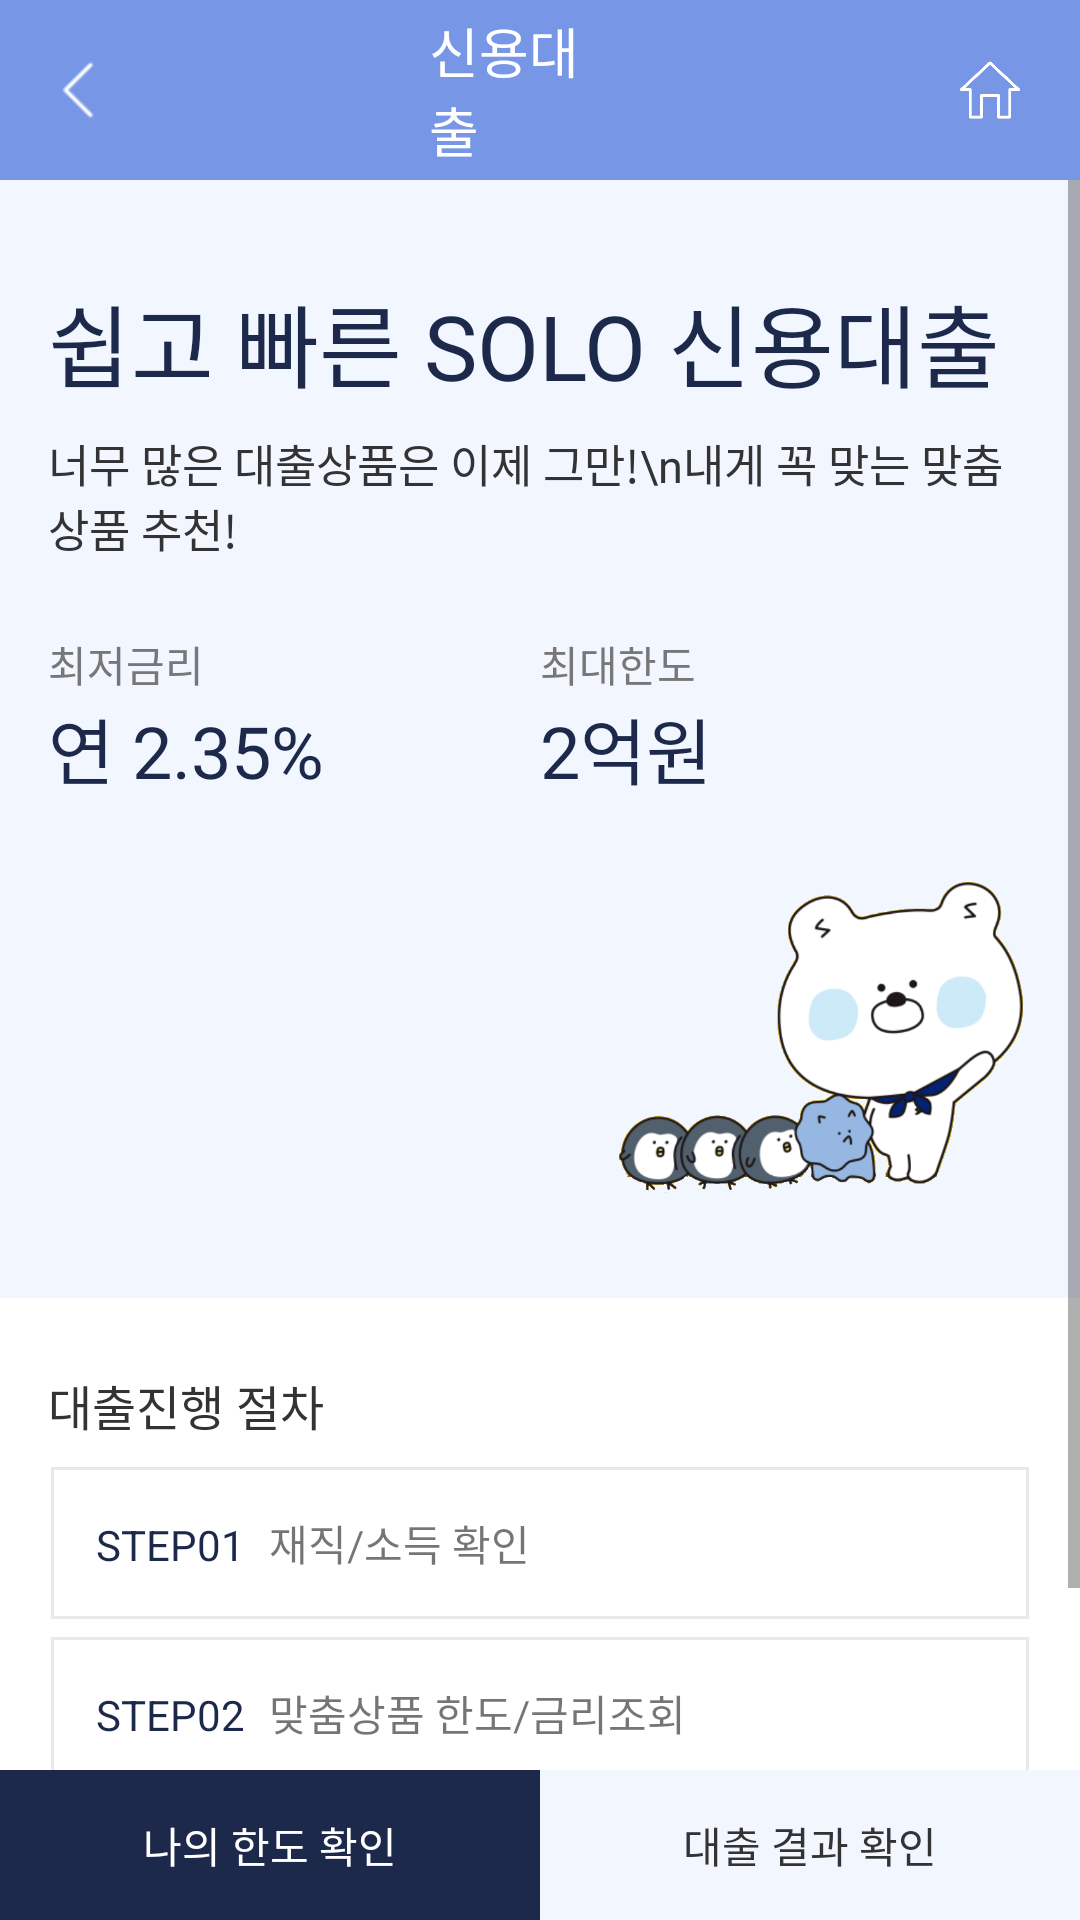

Point at icon controls on the screen. Image size 1080px x 1920px, points as point (x, y).
top back: point (78, 90)
top home: point (990, 90)
